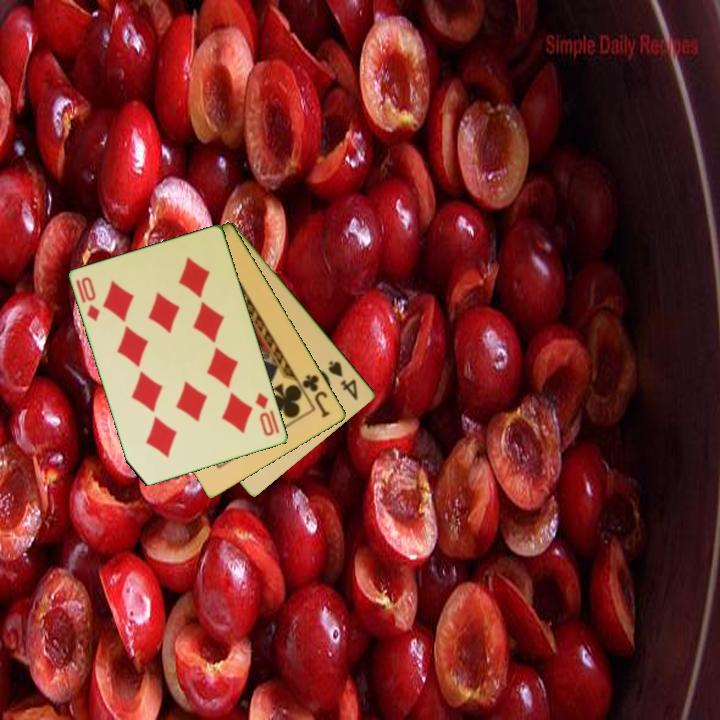10d: (78, 273, 103, 325), (252, 389, 277, 439)
4s: (325, 357, 361, 403)
Jc: (299, 371, 333, 421)
